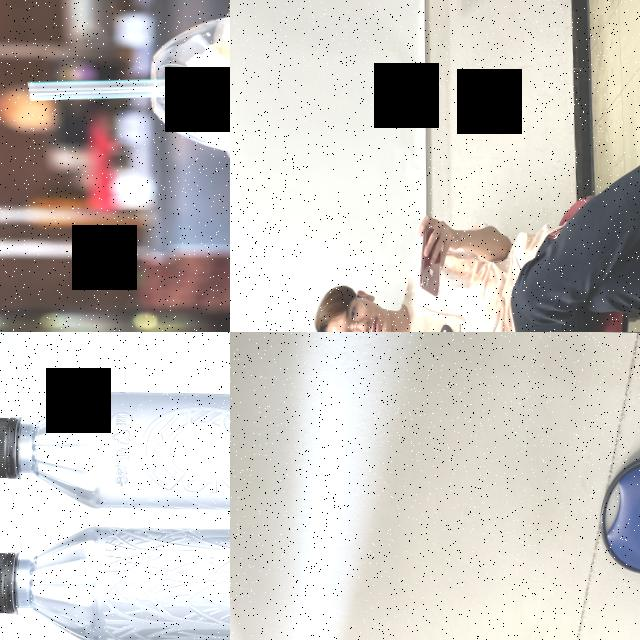bottle: (0, 385, 230, 517), (0, 518, 230, 640)
cup: (146, 3, 230, 164)
